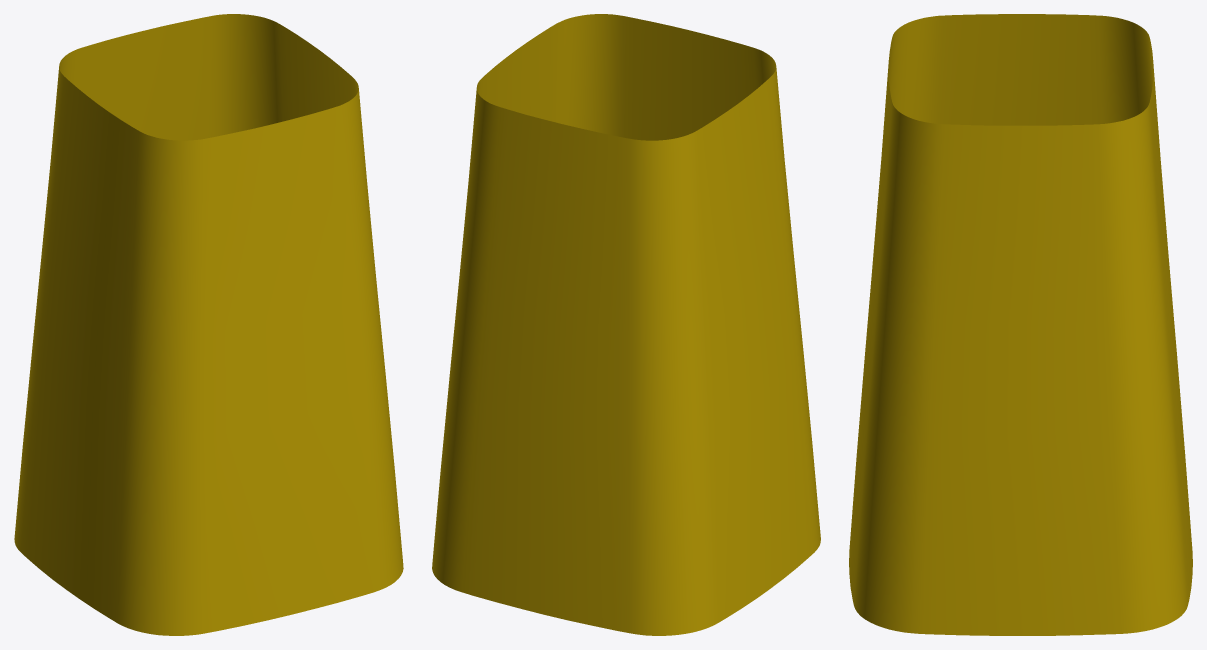
File: original_6.obj
3 renders of one model, left to right at view 1: azimuth 30°, elevation 25°; view 2: azimuth 150°, elevation 25°; view 3: azimuth 270°, elevation 25°, orthographic. The views are drawn at different scales.
Visible parts, largest first — view 1: group_5/ID41#ID41; view 2: group_5/ID41#ID41; view 3: group_5/ID41#ID41.
Boxes of the visible parts, x1,y1,x2,y2 form: group_5/ID41#ID41: (14, 14, 403, 635); group_5/ID41#ID41: (432, 14, 820, 635); group_5/ID41#ID41: (849, 14, 1192, 635).
Size of the model in its own units: 0.6775 by 1.07 by 0.6777.
